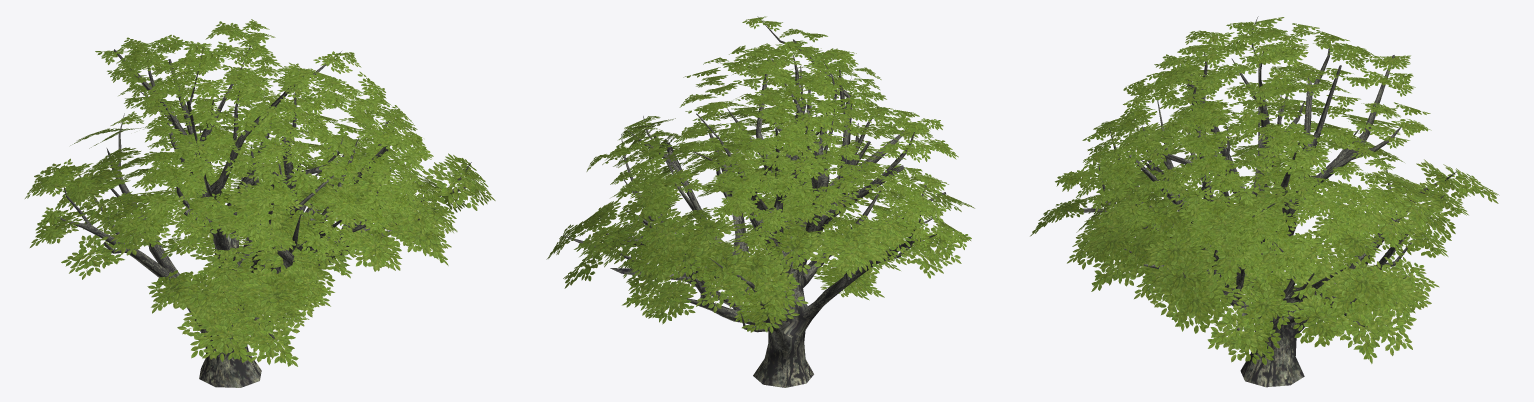
Rendered from Tree_04_Re.fbx.
3 renders of one model, left to right at view 1: azimuth 30°, elevation 25°; view 2: azimuth 150°, elevation 25°; view 3: azimuth 270°, elevation 25°, orthographic. The views are drawn at different scales.
Visible parts, largest first — view 1: Tree_4_Leaf, Tree_4_Trunk; view 2: Tree_4_Leaf, Tree_4_Trunk; view 3: Tree_4_Leaf, Tree_4_Trunk.
Boxes of the visible parts, left/top/right/bottom form: Tree_4_Leaf: left=25, top=19, right=495, bottom=366; Tree_4_Trunk: left=57, top=45, right=471, bottom=387; Tree_4_Leaf: left=546, top=16, right=974, bottom=333; Tree_4_Trunk: left=563, top=16, right=945, bottom=387; Tree_4_Leaf: left=1030, top=17, right=1499, bottom=365; Tree_4_Trunk: left=1061, top=16, right=1456, bottom=387.
Size of the model in its own units: 822 by 619 by 822.
Materials: 2 (2 with a texture image).
